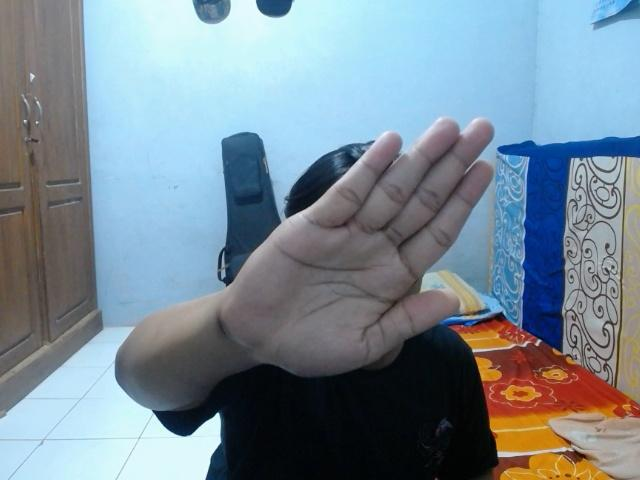Release: (218, 108, 502, 382)
